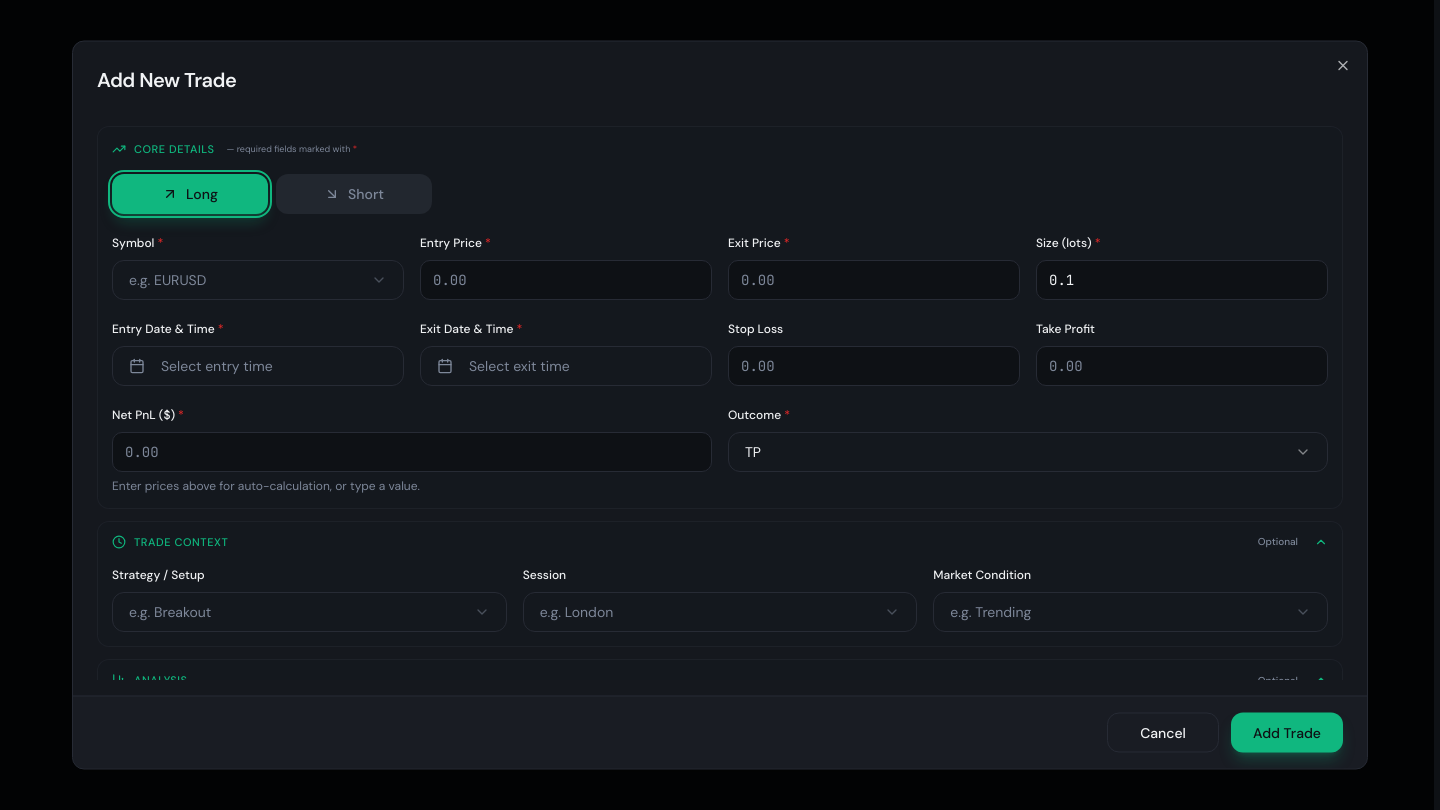
AddTradeModal - UX Enhancements › shows PnL helper text for manual override
Type "150" into the number field with placeholder "0.00" below "Net PnL ($)" at coordinates (412, 451), box x1=112 y1=431 x2=712 y2=471
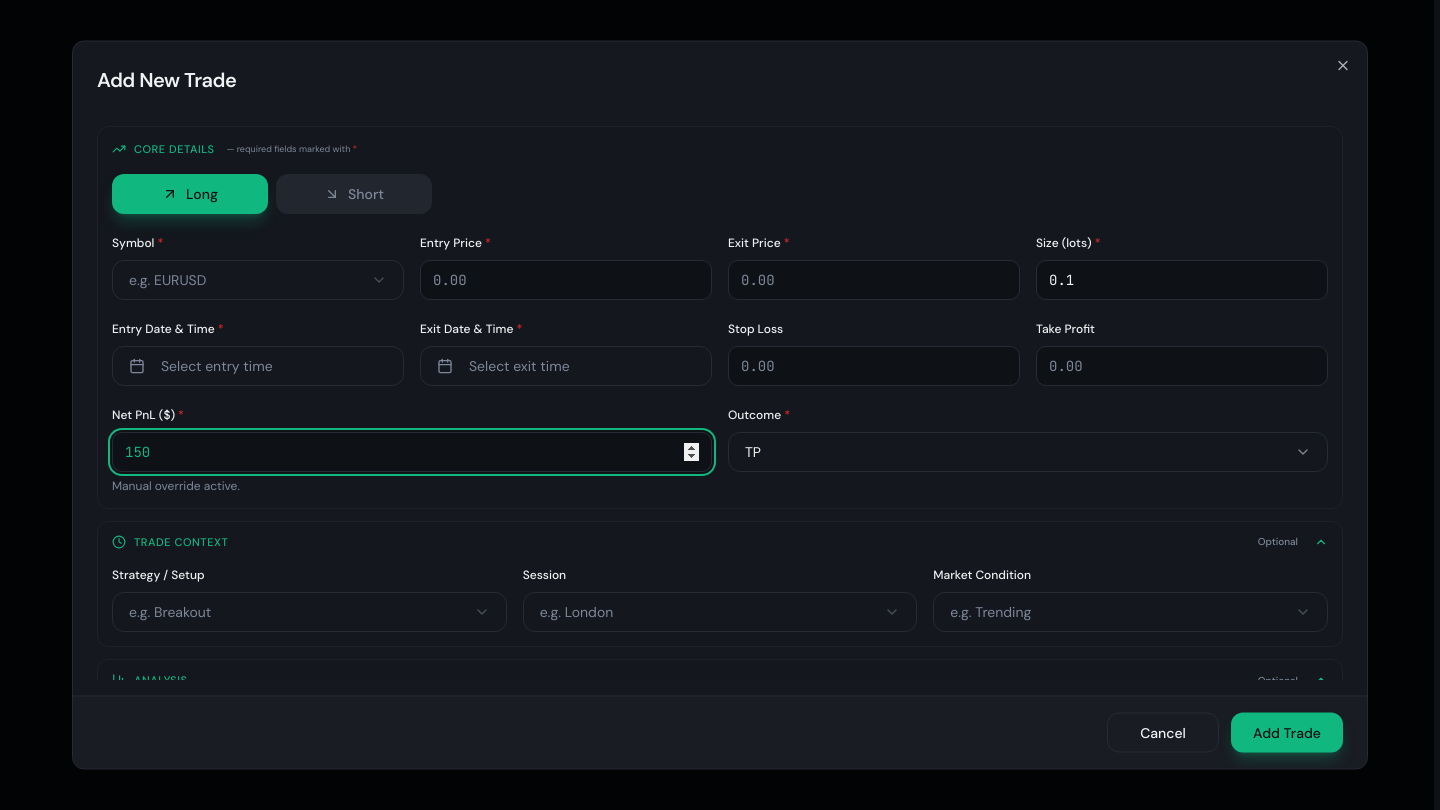
Check: the text "Manual override active." is shown, box x1=112 y1=477 x2=240 y2=493
